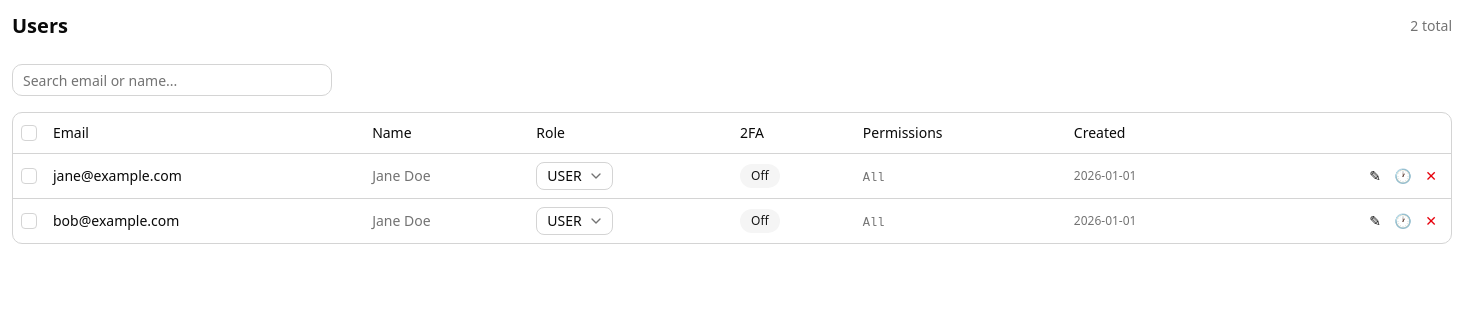
Test: AdminUsersTable › selects all rows via the header checkbox and deselects via a second click
The image size is (1464, 317).
Expected: the text "jane@example.com" is shown, [45,153,364,198]
Click the checkbox next to "Email" at (29, 133), box [21,125,37,141]
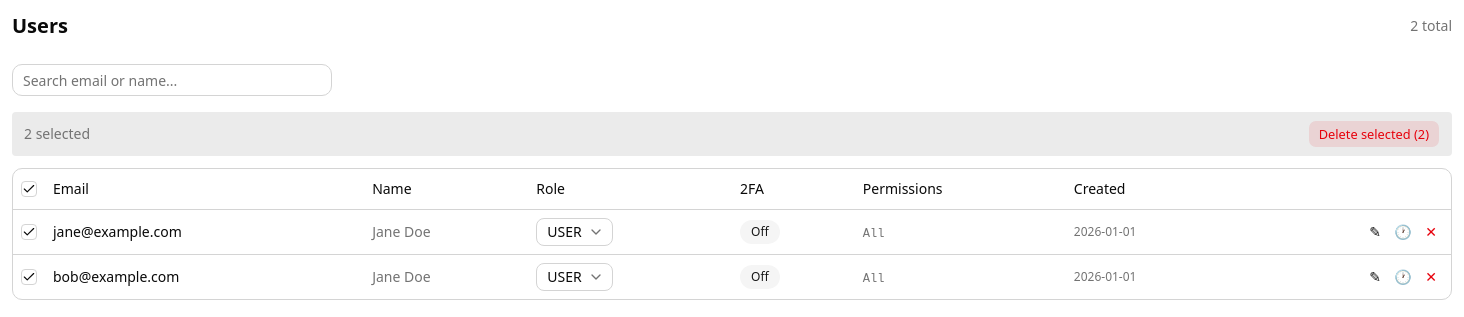
Result: the text "2 selected" is shown at [24,124,90,144]
Click the checkbox next to "Email" at (29, 189), box [21,181,37,197]
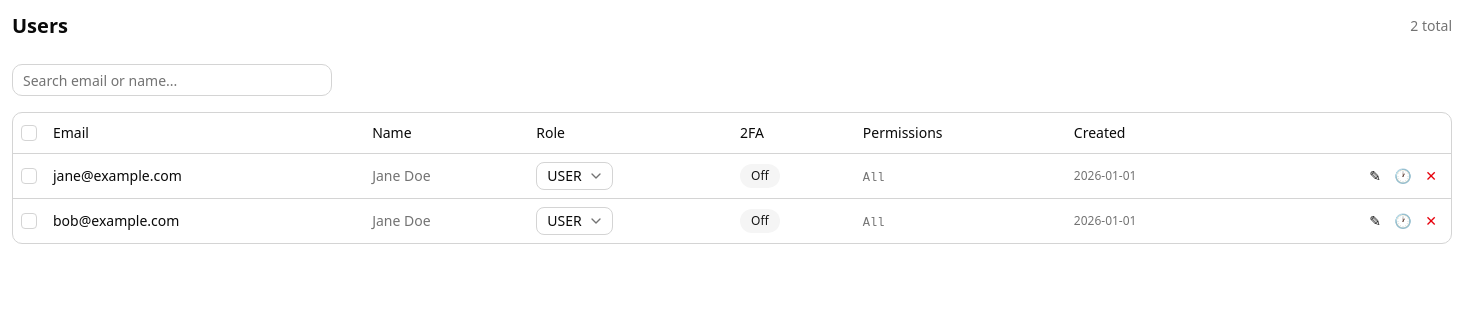
Result: the text "selected" is gone
